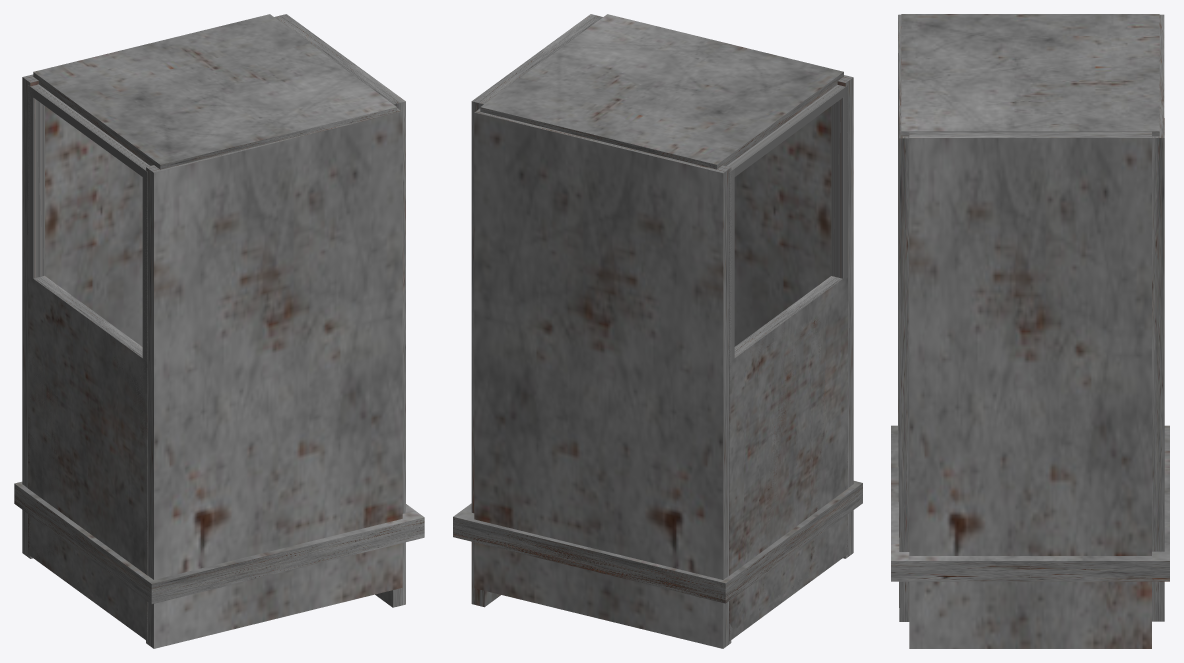
The model's file is cabina.bak.glb.
The picture shows the model from 3 angles, left to right: view 1: azimuth 30°, elevation 25°; view 2: azimuth 150°, elevation 25°; view 3: azimuth 270°, elevation 25°; orthographic projection.
Visible parts, largest first — view 1: Cube, Cube.003, Cube.002, Cube.001; view 2: Cube, Cube.003, Cube.002, Cube.001; view 3: Cube.001, Cube.003, Cube, Cube.002.
Boxes of the visible parts, box(x1,y1,x2,y2) form: Cube: box(22, 74, 402, 648); Cube.003: box(33, 14, 396, 169); Cube.002: box(14, 481, 424, 604); Cube.001: box(274, 14, 405, 607); Cube: box(474, 75, 853, 648); Cube.003: box(480, 14, 843, 169); Cube.002: box(453, 481, 862, 603); Cube.001: box(471, 14, 602, 607); Cube.001: box(909, 131, 1151, 648); Cube.003: box(901, 14, 1159, 136); Cube: box(898, 14, 1164, 621); Cube.002: box(891, 425, 1169, 581).
Bounding box in the file's own units: 2.04 × 3.6 × 1.78.
4 materials, 3 textured.
